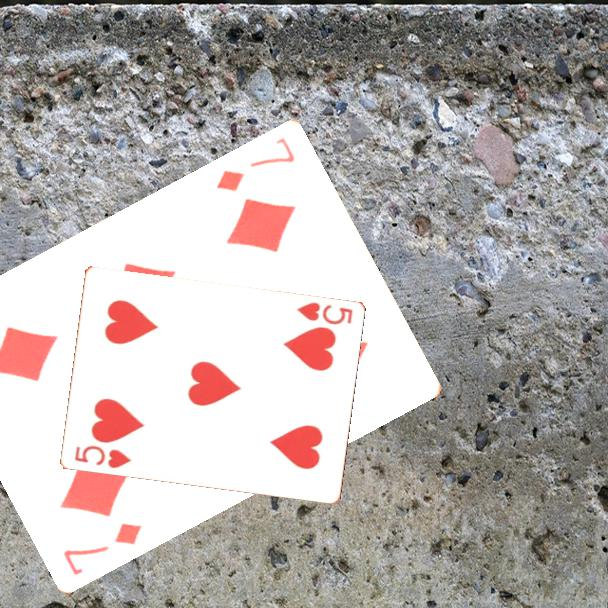d07: (212, 133, 298, 194), (59, 518, 146, 578)
h05: (71, 442, 134, 472), (293, 299, 355, 328)
